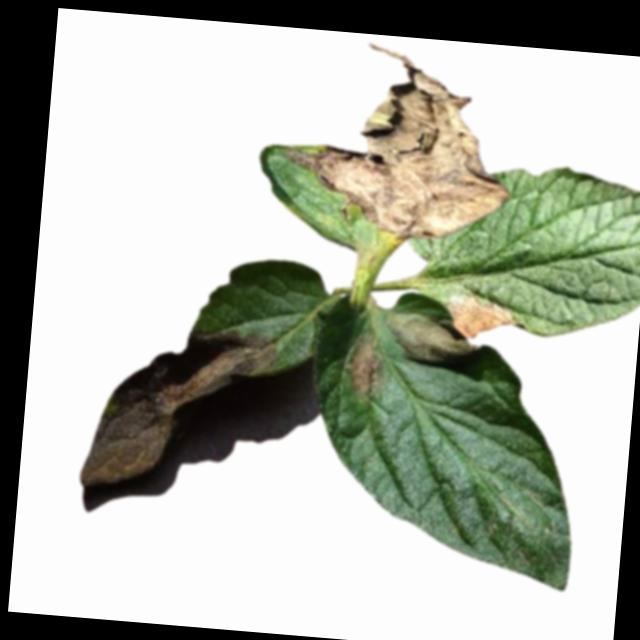Late_blight: (271, 36, 524, 246), (76, 315, 281, 501), (379, 310, 481, 366), (441, 293, 519, 343), (339, 333, 385, 399)
